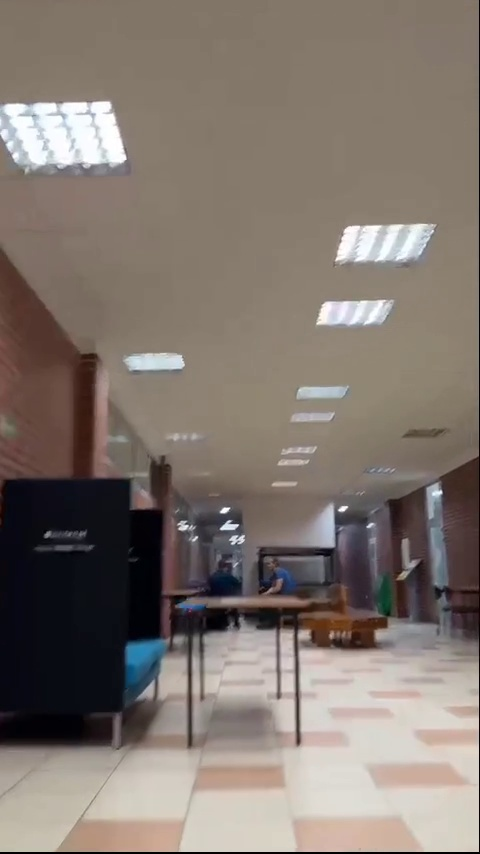drone: (171, 602, 208, 618)
no vest: (210, 558, 241, 597), (264, 559, 289, 596)
